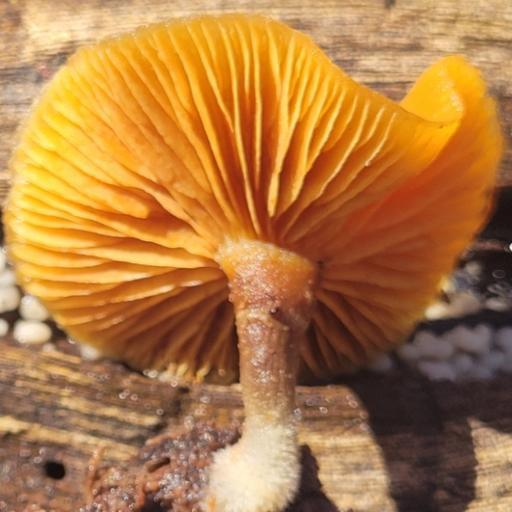mushroom: (7, 7, 507, 392)
